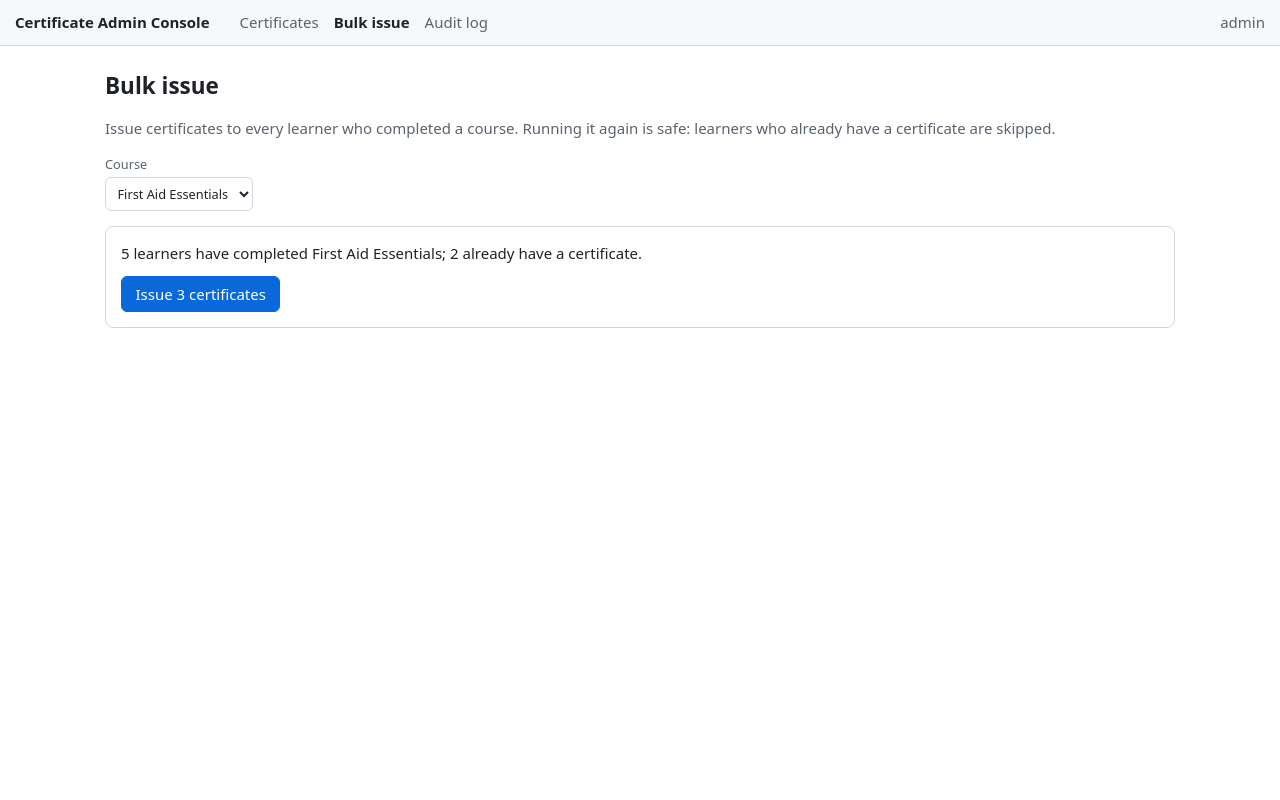
Scenario: BulkIssuePage › treats a stream that ends without “done” as interrupted
Click the button "Issue 3 certificates".
click(201, 294)  # box [121,276,280,312]
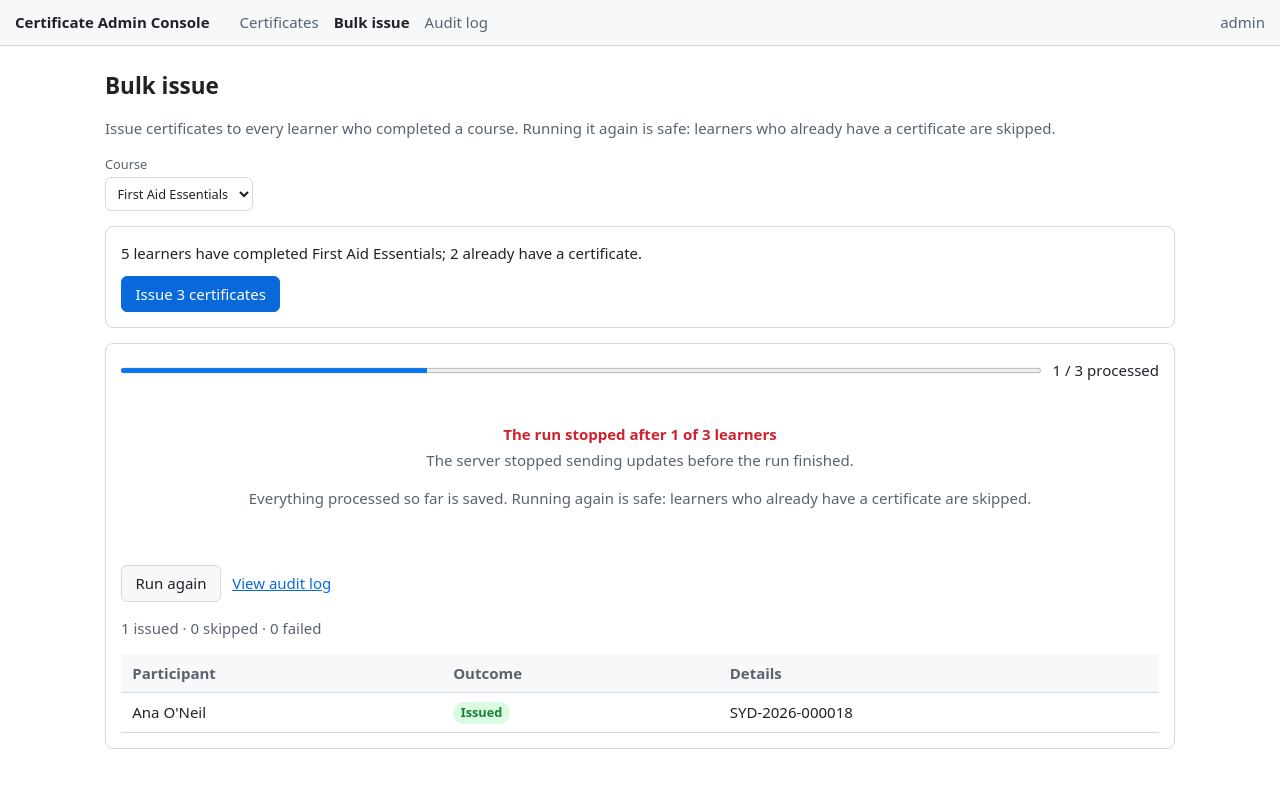
Check: the message shows "The server stopped sending updates before the run finished.", box [426,450,854,470]
